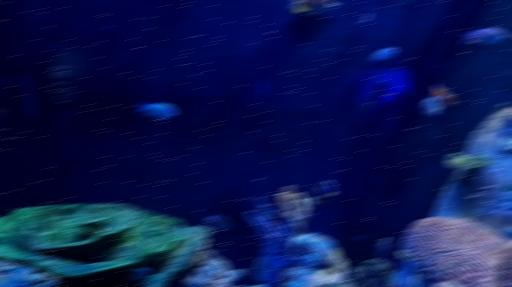Fish: (397, 251, 418, 286), (291, 0, 338, 15), (309, 180, 336, 206), (461, 29, 506, 44), (137, 102, 176, 118), (432, 84, 455, 106), (369, 47, 396, 63), (206, 214, 231, 230), (423, 96, 440, 116), (377, 237, 390, 260)
